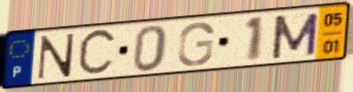0: (131, 23, 170, 74)
1: (242, 14, 266, 65)
C: (75, 26, 119, 80)
G: (175, 21, 216, 68)
M: (269, 11, 321, 61)
N: (35, 32, 78, 82)
